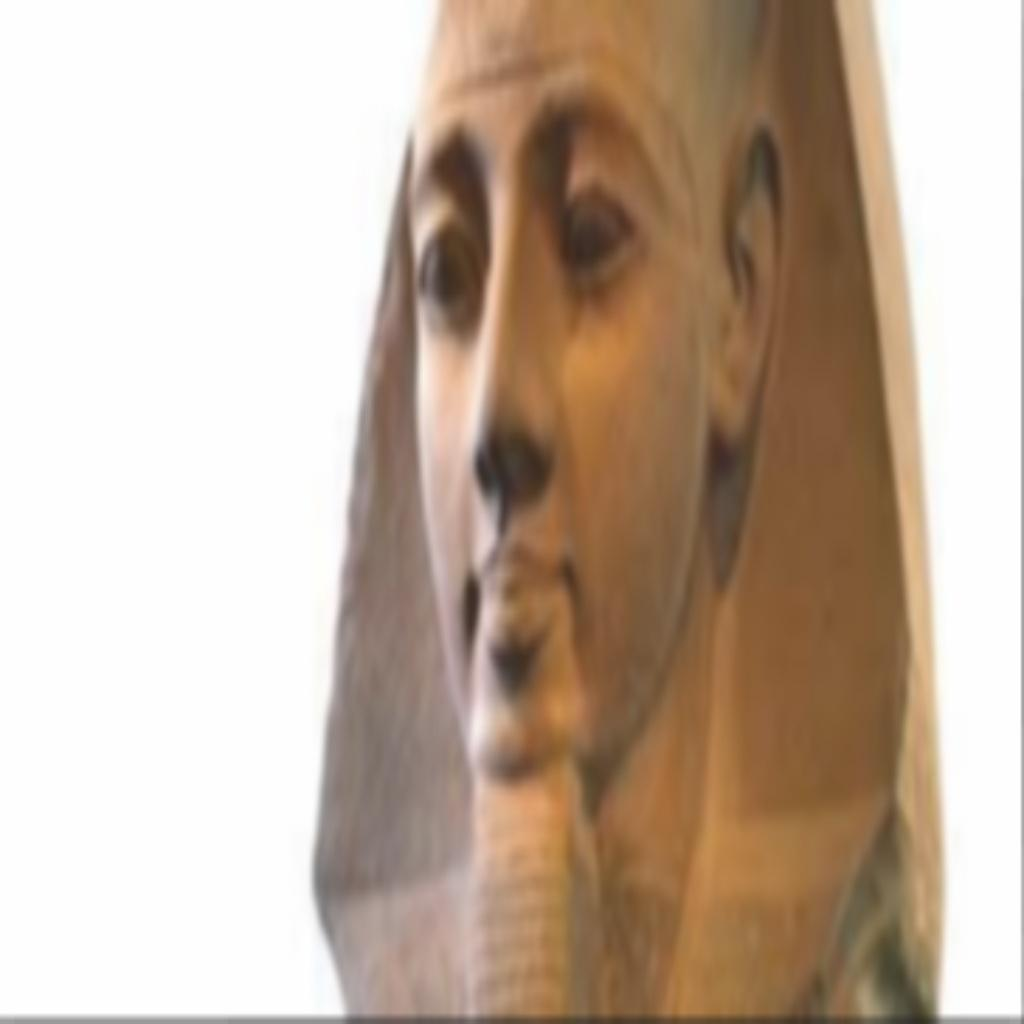bust of Ramesses II: (307, 0, 948, 1017)
